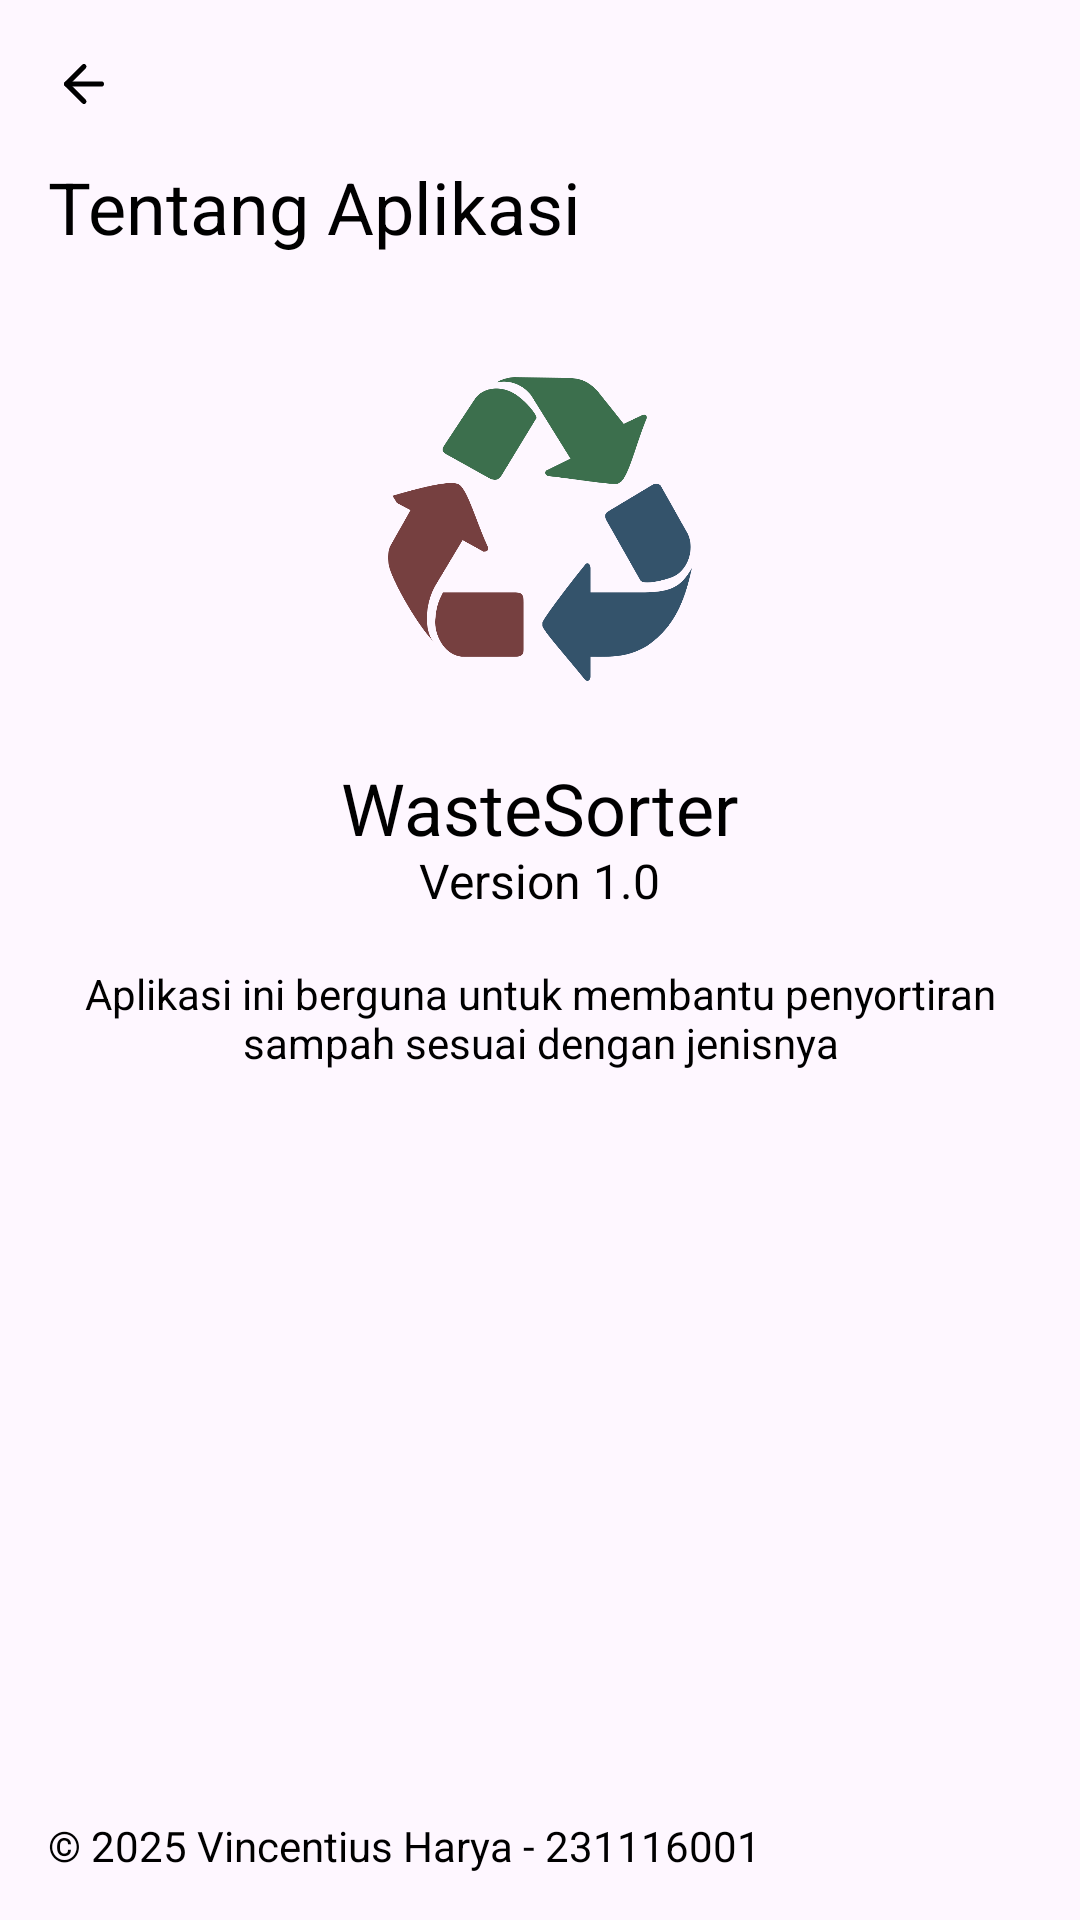

Where icons sit on this 1080*1920 app screen, as [x1=x1, y1=y1, x2=x2, y2=y2]:
arrow left: [x1=64, y1=64, x2=104, y2=104]
